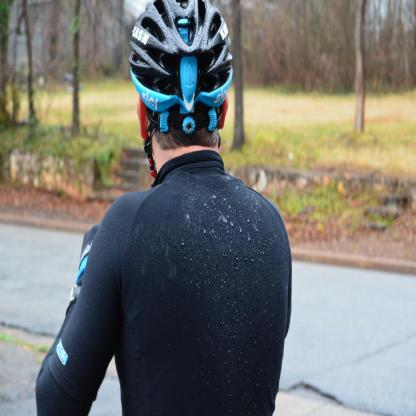Helmet: (128, 0, 233, 178)
